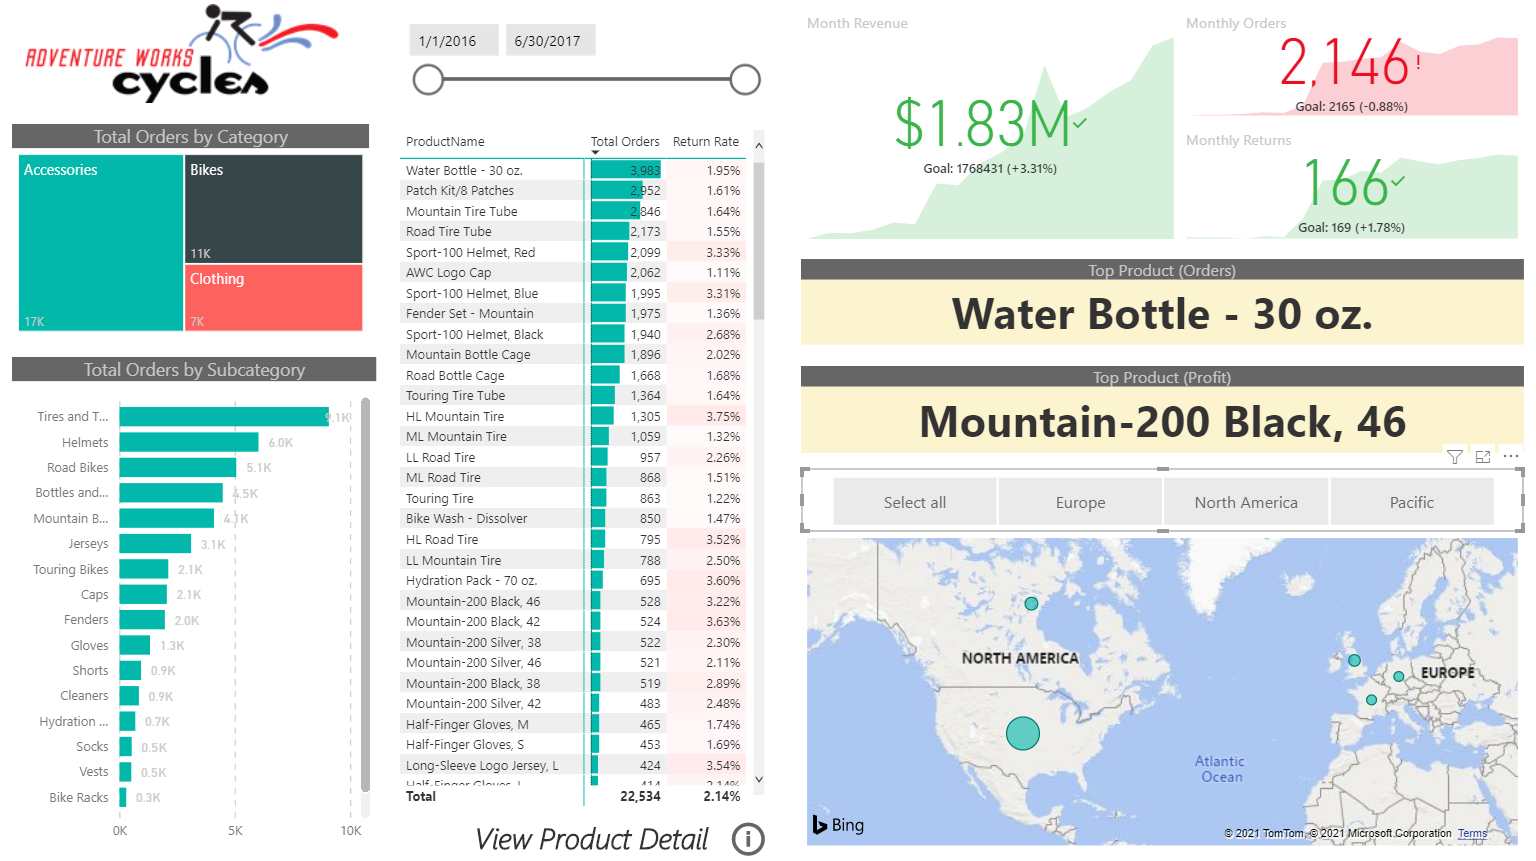

What the dashboard file says about the page in this screenshot:
{"tool":"powerbi","page":{"name":"Exec Summary","canvas":[1280,720],"ordinal":0},"visuals":[{"type":"image","box":[0,0,307.7,92.3],"z":0},{"type":"barChart","title":"Total Orders by Subcategory","fields":{"Category":["AW_Product_Subcategory_Lookup.SubcategoryName"],"Y":["AW_Sales.Total Orders"]},"box":[11.4,297.1,302.4,409.7],"z":1000},{"type":"treemap","title":"Total Orders by Category","fields":{"Group":["AW_Product_Category_Lookup.CategoryName","AW_Product_Subcategory_Lookup.SubcategoryName"],"Values":["AW_Sales.Total Orders"]},"box":[11.4,104.6,296.3,176.7],"z":2000},{"type":"pivotTable","fields":{"Values":["AW_Sales.Total Orders","AW_Returns.Return Rate"],"Rows":["AW_Product_Category_Lookup.CategoryName","AW_Product_Subcategory_Lookup.SubcategoryName","AW_Product_Lookup.ProductName"]},"box":[327.9,104.6,312.1,569.7],"z":3000},{"type":"slicer","fields":{"Values":["AW_Calendar_Lookup.Date"]},"box":[327.9,11.4,312.1,74.7],"z":4000},{"type":"kpi","title":"Month Revenue","fields":{"Indicator":["AW_Sales.Total Revenue"],"TrendLine":["AW_Calendar_Lookup.Start of Month"],"Goal":["AW_Sales.Prev Month Revenue"]},"box":[665.5,11.4,313.8,192.5],"z":5000},{"type":"kpi","title":"Monthly Orders","fields":{"TrendLine":["AW_Calendar_Lookup.Start of Month"],"Indicator":["AW_Sales.Total Orders"],"Goal":["AW_Sales.Prev Month Orders"]},"box":[979.3,11.4,284.8,90.5],"z":6000},{"type":"kpi","title":"Monthly Returns","fields":{"TrendLine":["AW_Calendar_Lookup.Start of Month"],"Indicator":["AW_Returns.Total Returns"],"Goal":["AW_Returns.Prev Month Returns"]},"box":[979.3,108.1,284.8,95.8],"z":7000},{"type":"card","title":"Top Product (Orders)","fields":{"Values":["Min(AW_Product_Lookup.ProductName)"]},"box":[665.5,216.3,598.7,71.2],"z":8000},{"type":"card","title":"Top Product (Profit)","fields":{"Values":["Min(AW_Product_Lookup.ProductName)"]},"box":[665.5,305.1,598.7,72.1],"z":9000},{"type":"map","fields":{"Category":["AW_Territories_Lookup.Country"],"Size":["AW_Sales.Total Orders"]},"box":[665.5,442.2,598.7,264.6],"z":10000},{"type":"slicer","fields":{"Values":["AW_Territories_Lookup.Continent"]},"box":[665.5,389.5,598.7,52.7],"z":11000},{"type":"textbox","box":[389.5,674.3,213.6,45.7],"z":12000},{"type":"actionButton","box":[603.1,674.3,36.9,45.7],"z":13000}]}

Visuals, with their boxes in screenshot pixels (x1, y1, x2, y2), scaled from the page's 1280x720 canvas onto the 1536x861 screenshot:
image: bbox(0, 0, 369, 110)
"Total Orders by Subcategory" barChart: bbox(14, 355, 377, 845)
"Total Orders by Category" treemap: bbox(14, 125, 369, 336)
pivotTable - AW_Sales.Total Orders x AW_Returns.Return Rate: bbox(393, 125, 768, 806)
slicer - AW_Calendar_Lookup.Date: bbox(393, 14, 768, 103)
"Month Revenue" kpi: bbox(799, 14, 1175, 244)
"Monthly Orders" kpi: bbox(1175, 14, 1517, 122)
"Monthly Returns" kpi: bbox(1175, 129, 1517, 244)
"Top Product (Orders)" card: bbox(799, 259, 1517, 344)
"Top Product (Profit)" card: bbox(799, 365, 1517, 451)
map - AW_Territories_Lookup.Country x AW_Sales.Total Orders: bbox(799, 529, 1517, 845)
slicer - AW_Territories_Lookup.Continent: bbox(799, 466, 1517, 529)
textbox: bbox(467, 806, 724, 860)
actionButton: bbox(724, 806, 768, 860)
